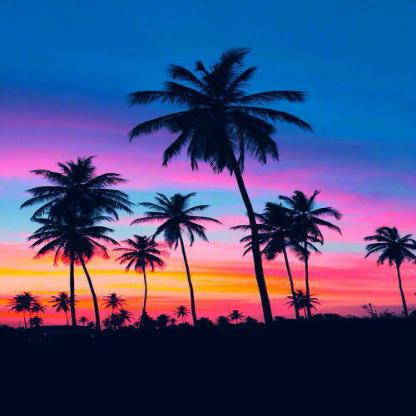other: (16, 245, 328, 310)
